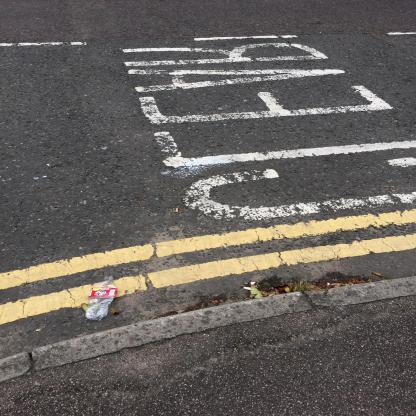plastik: (86, 276, 120, 322)
